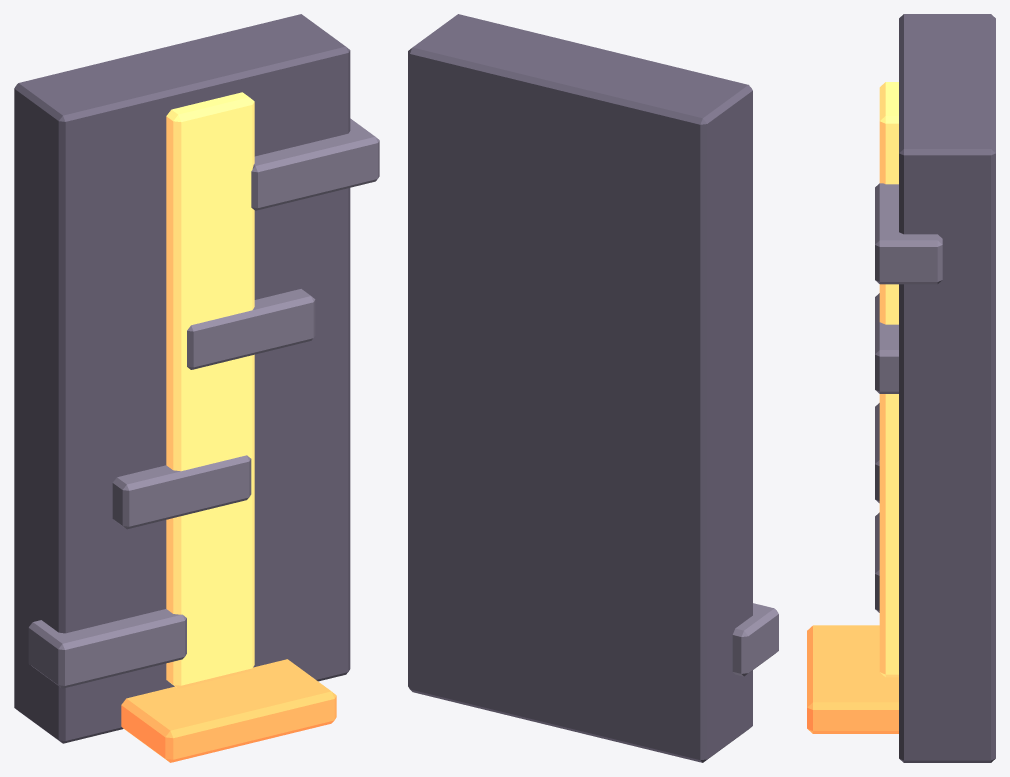
The model's file is ember_lavafall_cliff.glb.
3 renders of one model, left to right at view 1: azimuth 30°, elevation 25°; view 2: azimuth 150°, elevation 25°; view 3: azimuth 270°, elevation 25°, orthographic. The views are drawn at different scales.
Visible parts, largest first — view 1: ember_lavafall_cliff_Body, ember_lavafall_cliff_Lava.001; view 2: ember_lavafall_cliff_Body; view 3: ember_lavafall_cliff_Body, ember_lavafall_cliff_Lava.001.
Boxes of the visible parts, left/top/right/bottom form: ember_lavafall_cliff_Body: left=14, top=14, right=379, bottom=743; ember_lavafall_cliff_Lava.001: left=121, top=92, right=336, bottom=762; ember_lavafall_cliff_Body: left=408, top=14, right=778, bottom=762; ember_lavafall_cliff_Body: left=875, top=14, right=995, bottom=762; ember_lavafall_cliff_Lava.001: left=807, top=82, right=898, bottom=733.
Size of the model in its own units: 3.75 by 7 by 1.95.
